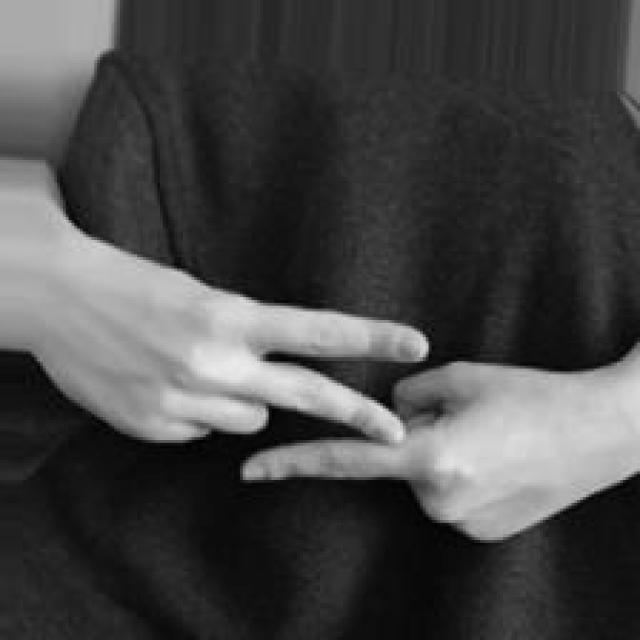Z: (87, 241, 640, 543)
